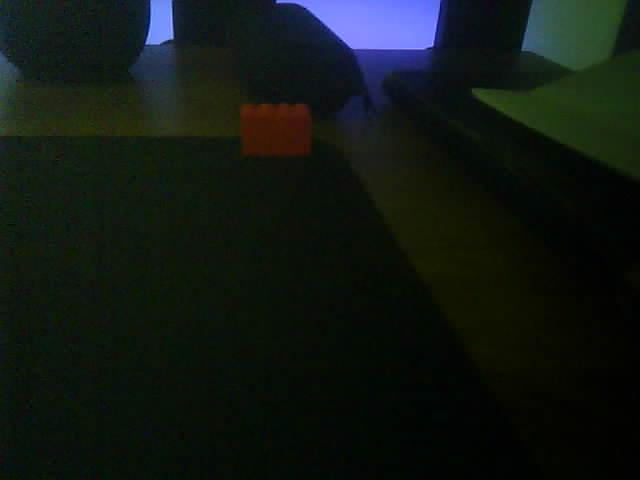lego: (238, 102, 313, 155)
